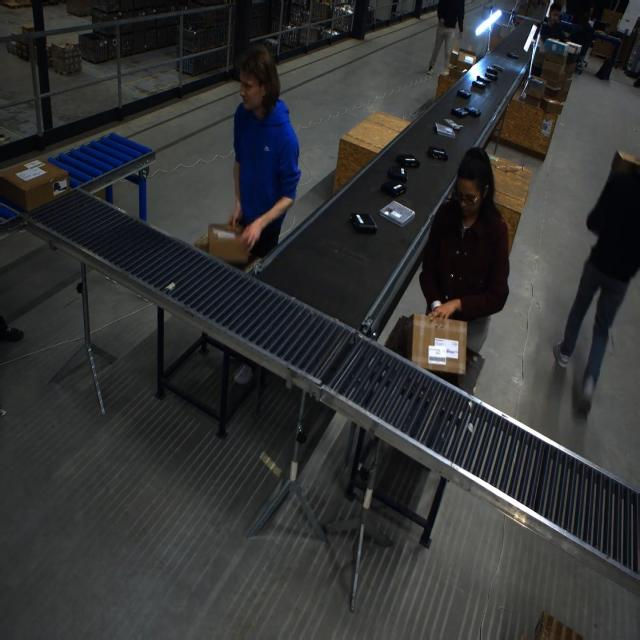box: (0, 158, 69, 212), (410, 314, 465, 377), (207, 223, 252, 265), (522, 76, 546, 100), (541, 53, 567, 75), (540, 94, 564, 115), (541, 79, 563, 96), (449, 47, 465, 69), (564, 50, 579, 68)
product: (379, 199, 415, 226), (349, 213, 377, 234), (381, 180, 407, 198), (387, 165, 407, 182), (395, 154, 419, 168), (434, 122, 456, 137), (427, 146, 448, 160), (443, 118, 463, 130), (451, 107, 469, 117), (465, 106, 481, 117), (471, 79, 486, 90), (486, 64, 502, 74), (457, 89, 472, 99), (475, 75, 489, 85), (485, 72, 497, 81), (506, 52, 519, 59)
